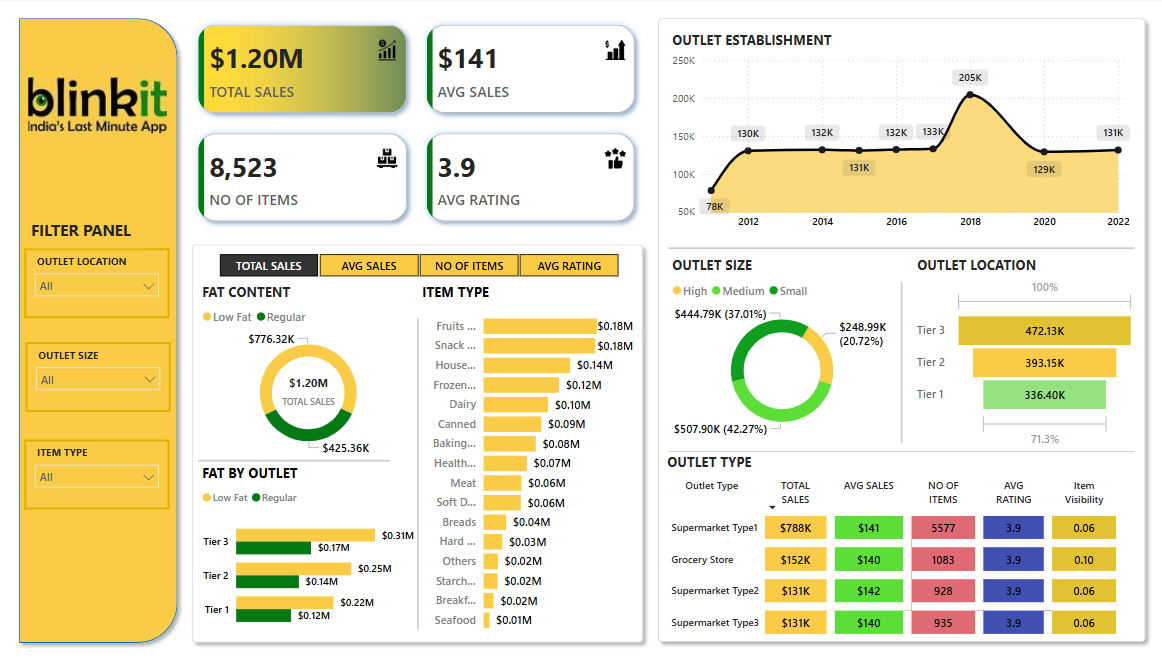

The dashboard page shown, as its layout file describes it:
{"tool":"powerbi","page":{"name":"Page 1","canvas":[1400,800],"ordinal":0},"visuals":[{"type":"shape","box":[16,16,208,768],"z":0},{"type":"image","box":[32,80,176,96],"z":1000},{"type":"cardVisual","fields":{"Data":["BlinkIT Grocery Data.TOTAL SALES","BlinkIT Grocery Data.AVG SALES","BlinkIT Grocery Data.NO OF ITEMS","BlinkIT Grocery Data.AVG RATING"]},"box":[223.6,16.5,559.8,271.7],"z":2000},{"type":"shape","box":[224,288,560,496],"z":3000},{"type":"donutChart","title":"FAT CONTENT","fields":{"Y":["BlinkIT Grocery Data.TOTAL SALES"],"Category":["BlinkIT Grocery Data.Item Fat Content"],"Series":["Parameter1.Parameter1"]},"box":[239.4,342.5,265.2,215.2],"z":4000},{"type":"slicer","fields":{"Values":["Parameter1.Parameter1"]},"box":[239.4,301.6,528.9,39.4],"z":5000},{"type":"clusteredBarChart","title":"FAT BY OUTLET","fields":{"Y":["BlinkIT Grocery Data.TOTAL SALES"],"Category":["BlinkIT Grocery Data.Outlet Location Type"],"Series":["BlinkIT Grocery Data.Item Fat Content"]},"box":[239.4,559.2,265.2,213.7],"z":6000},{"type":"barChart","title":"ITEM TYPE","fields":{"Y":["BlinkIT Grocery Data.TOTAL SALES"],"Category":["BlinkIT Grocery Data.Item Type"]},"box":[504.7,342.5,263.7,430.4],"z":7000},{"type":"card","fields":{"Values":["BlinkIT Grocery Data.TOTAL SALES"]},"box":[333.2,409.7,79.5,126.1],"z":8000},{"type":"shape","box":[240.1,498.3,231.1,117.1],"z":9000},{"type":"shape","box":[382.7,385.7,243.1,373.7],"z":10000},{"type":"shape","box":[783.5,16.5,603.3,766.9],"z":11000},{"type":"lineChart","title":"OUTLET ESTABLISHMENT","fields":{"Category":["BlinkIT Grocery Data.Outlet Establishment Year"],"Y":["BlinkIT Grocery Data.TOTAL SALES"]},"box":[804.5,40.5,559.8,247.6],"z":12000},{"type":"shape","box":[804.5,243.1,559.8,117.1],"z":13000},{"type":"donutChart","title":"OUTLET SIZE","fields":{"Y":["BlinkIT Grocery Data.TOTAL SALES"],"Series":["Parameter1.Parameter1"],"Category":["BlinkIT Grocery Data.Outlet Size"]},"box":[804.5,310.7,274.7,225.1],"z":14000},{"type":"shape","box":[1026.6,342.2,117.1,193.6],"z":15000},{"type":"funnel","title":"OUTLET LOCATION","fields":{"Y":["Sum(BlinkIT Grocery Data.Sales)"],"Category":["BlinkIT Grocery Data.Outlet Location Type"]},"box":[1098.6,310.7,271.7,235.6],"z":16000},{"type":"shape","box":[804.5,487.8,559.8,117.1],"z":17000},{"type":"pivotTable","title":"OUTLET TYPE","fields":{"Rows":["BlinkIT Grocery Data.Outlet Type"],"Values":["BlinkIT Grocery Data.TOTAL SALES","BlinkIT Grocery Data.AVG SALES","BlinkIT Grocery Data.NO OF ITEMS","BlinkIT Grocery Data.AVG RATING","Avg(BlinkIT Grocery Data.Item Visibility)"]},"box":[798.5,546.3,571.8,226.6],"z":18000},{"type":"slicer","fields":{"Values":["BlinkIT Grocery Data.Outlet Location Type"]},"box":[31.5,301.7,174.1,84],"z":19001},{"type":"slicer","fields":{"Values":["BlinkIT Grocery Data.Outlet Size"]},"box":[33,414.2,174.1,84],"z":19002},{"type":"slicer","fields":{"Values":["BlinkIT Grocery Data.Item Type"]},"box":[31.5,531.3,174.1,84],"z":19003},{"type":"textbox","box":[34.5,262.7,147.1,39],"z":19004}]}

Visuals, with their boxes in screenshot pixels (x1, y1, x2, y2), scaled from the page's 1400x800 canvas onto the 1162x658 screenshot:
shape: detection(13, 13, 186, 645)
image: detection(27, 66, 173, 145)
cardVisual - BlinkIT Grocery Data.TOTAL SALES x BlinkIT Grocery Data.AVG SALES: detection(186, 14, 650, 237)
shape: detection(186, 237, 651, 645)
"FAT CONTENT" donutChart: detection(199, 282, 419, 459)
slicer - Parameter1.Parameter1: detection(199, 248, 638, 280)
"FAT BY OUTLET" clusteredBarChart: detection(199, 460, 419, 636)
"ITEM TYPE" barChart: detection(419, 282, 638, 636)
card - BlinkIT Grocery Data.TOTAL SALES: detection(277, 337, 343, 441)
shape: detection(199, 410, 391, 506)
shape: detection(318, 317, 519, 625)
shape: detection(650, 14, 1151, 644)
"OUTLET ESTABLISHMENT" lineChart: detection(668, 33, 1132, 237)
shape: detection(668, 200, 1132, 296)
"OUTLET SIZE" donutChart: detection(668, 256, 896, 441)
shape: detection(852, 281, 949, 441)
"OUTLET LOCATION" funnel: detection(912, 256, 1137, 449)
shape: detection(668, 401, 1132, 498)
"OUTLET TYPE" pivotTable: detection(663, 449, 1137, 636)
slicer - BlinkIT Grocery Data.Outlet Location Type: detection(26, 248, 171, 317)
slicer - BlinkIT Grocery Data.Outlet Size: detection(27, 341, 172, 410)
slicer - BlinkIT Grocery Data.Item Type: detection(26, 437, 171, 506)
textbox: detection(29, 216, 151, 248)
